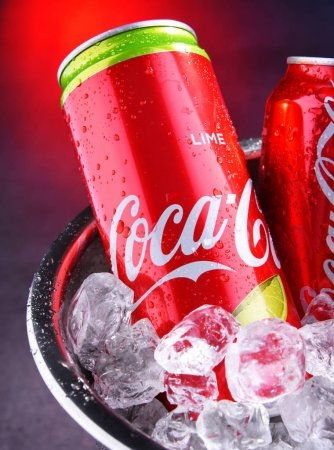metal: (52, 13, 283, 381), (255, 48, 334, 328)
